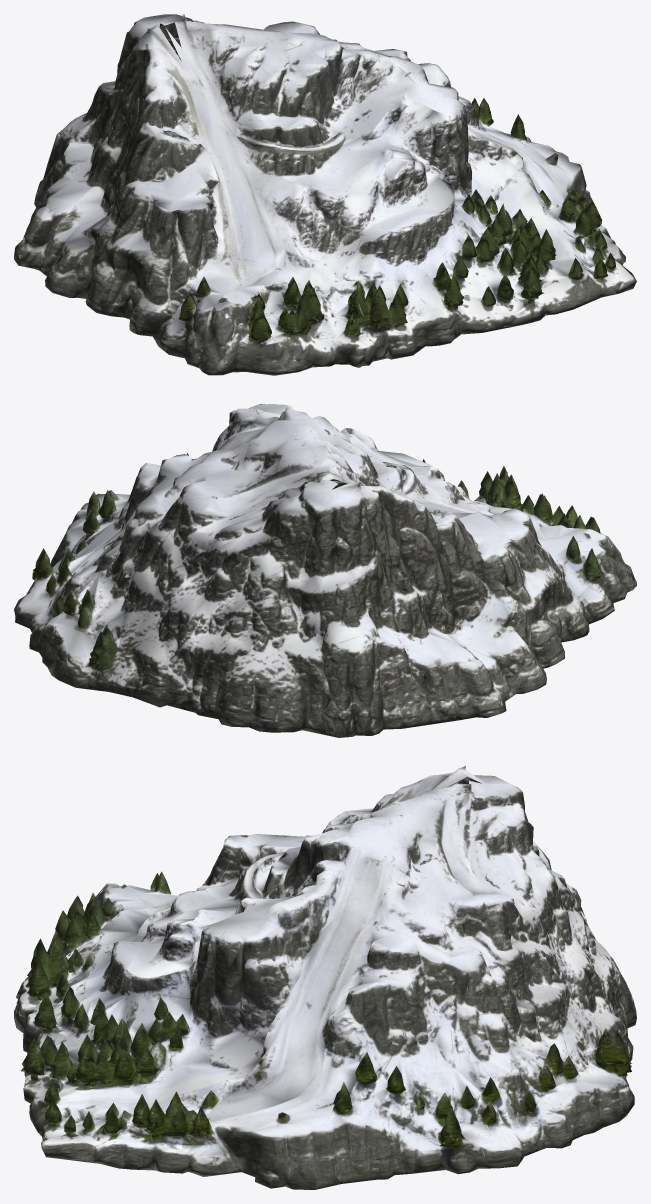
Rendered from city_bolu_kartalkaya_peak.glb.
3 renders of one model, top to bottom at view 1: azimuth 30°, elevation 25°; view 2: azimuth 150°, elevation 25°; view 3: azimuth 270°, elevation 25°, orthographic. The views are drawn at different scales.
Parts seen in each view (by area): view 1: Mesh1.0; view 2: Mesh1.0; view 3: Mesh1.0.
Part boxes in pixels (bbox=[...]): Mesh1.0: bbox=[14, 14, 636, 375]; Mesh1.0: bbox=[14, 404, 636, 737]; Mesh1.0: bbox=[14, 766, 636, 1189].
Bounding box in the file's own units: 72.3 × 27.67 × 68.51.
1 material, 1 textured.
